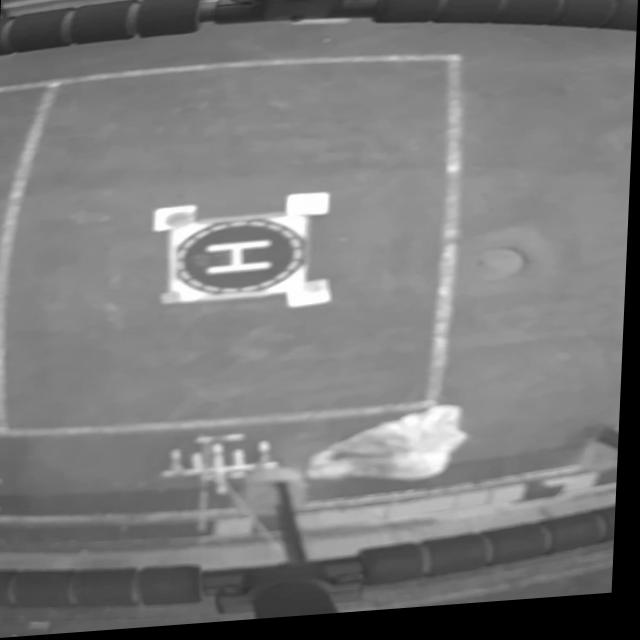Helipad: (208, 244, 273, 278)
